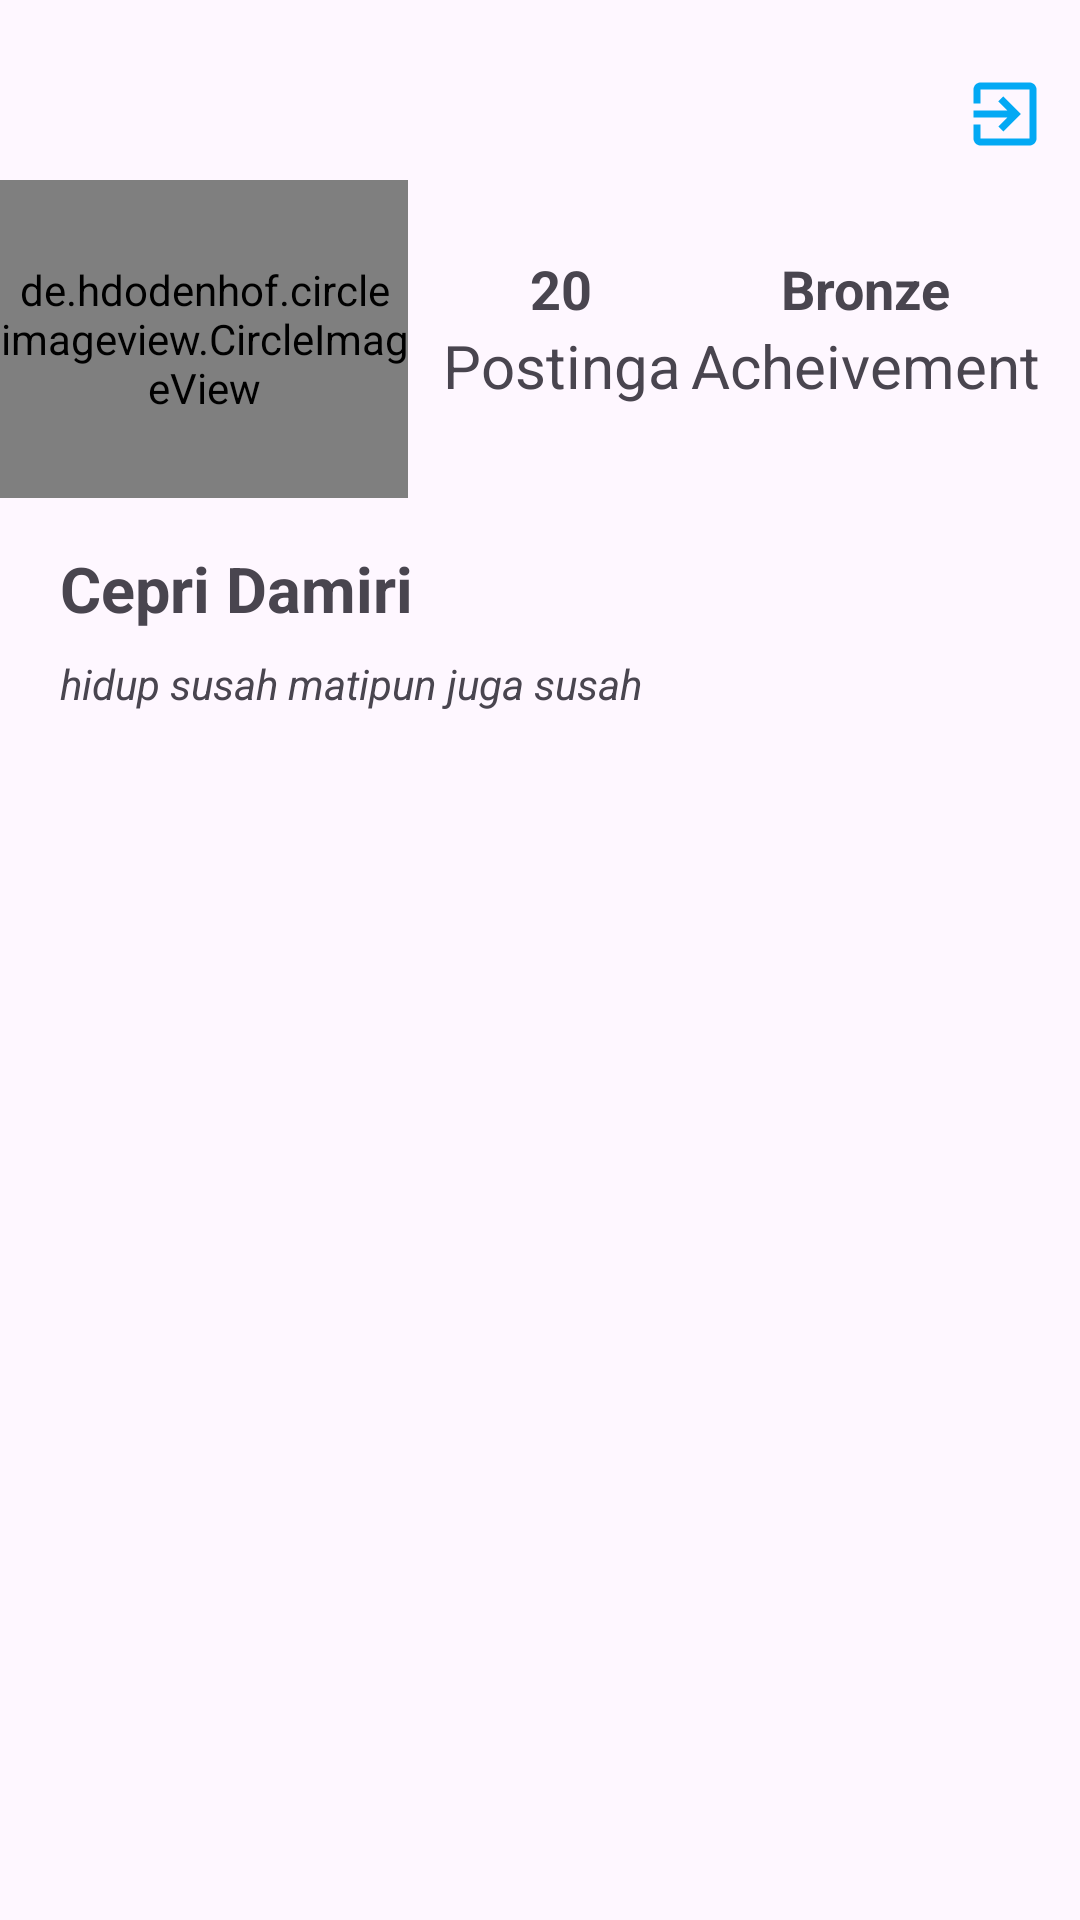

Where icons sit on this 1080*1920 app screen, as [x1=x1, y1=y1, x2=x2, y2=y2]:
exit: [x1=973, y1=82, x2=1037, y2=146]
